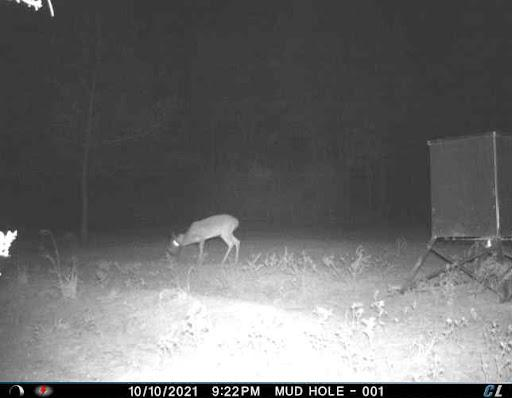Deer: (160, 214, 248, 276)
